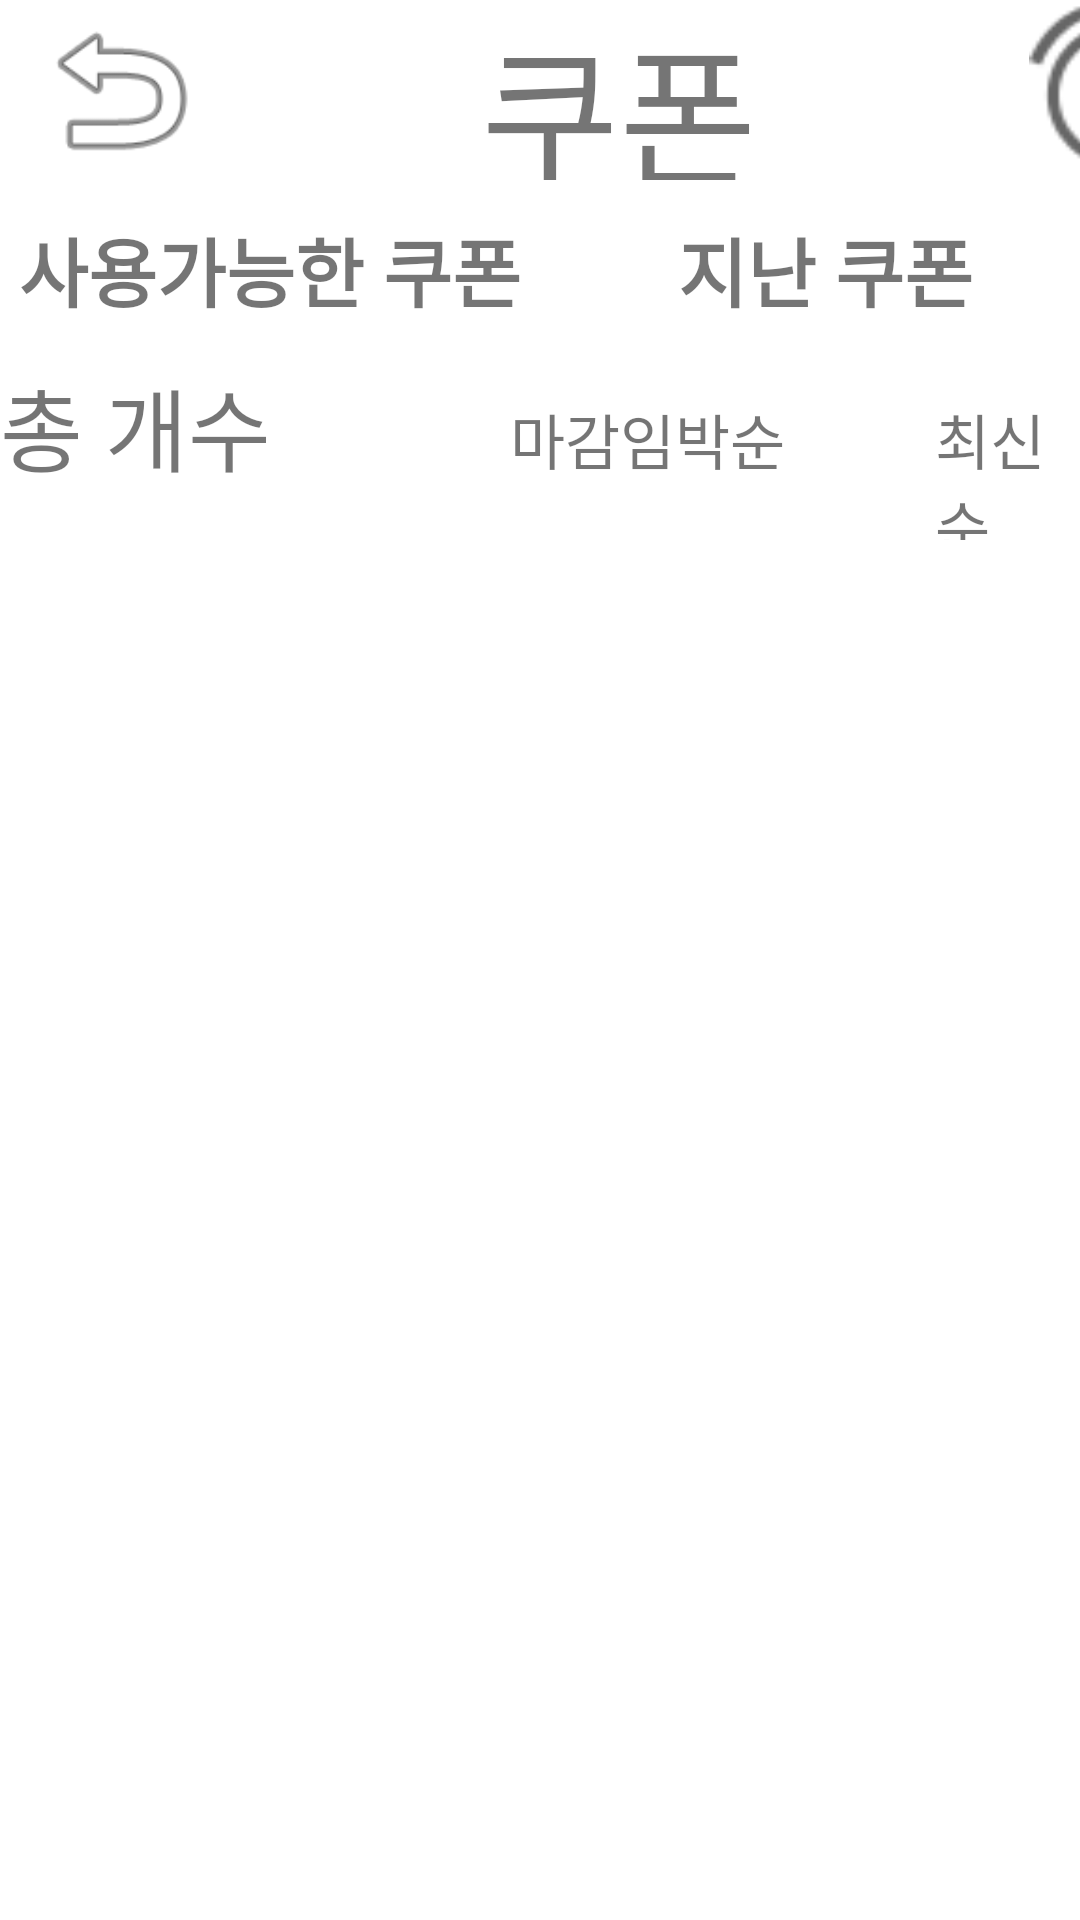

Screen size 1080 x 1920. Icon name, then its center in pixels as [x,y]:
revert: [122,91]
